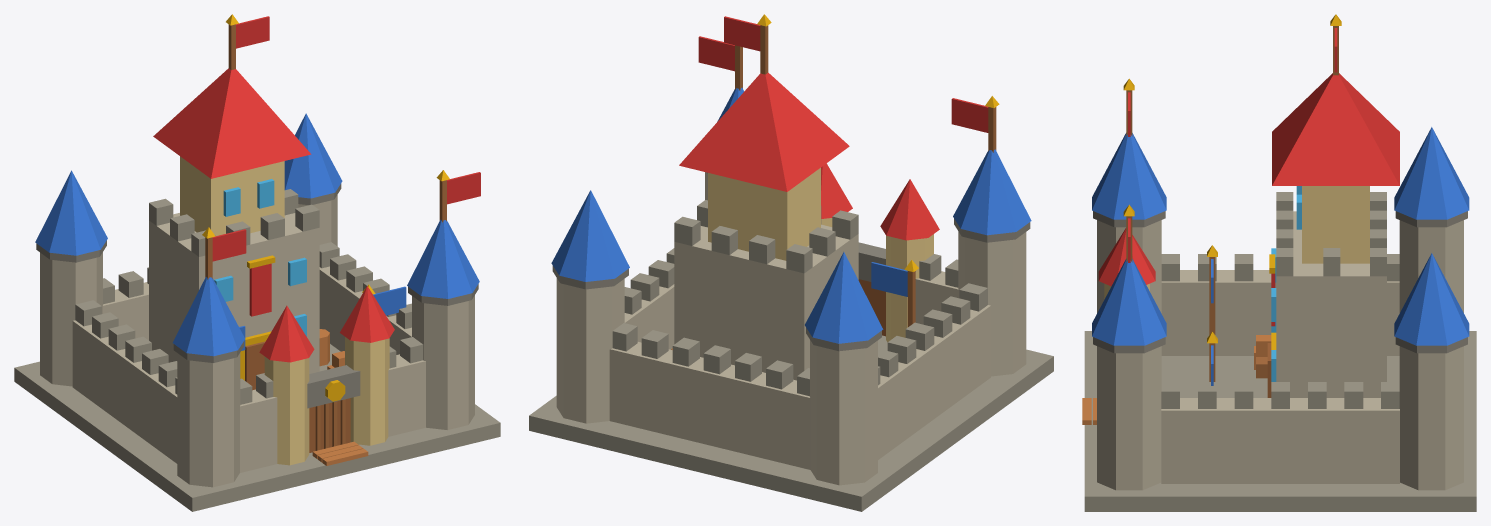
The model's file is castle_v1.glb.
3 renders of one model, left to right at view 1: azimuth 30°, elevation 25°; view 2: azimuth 150°, elevation 25°; view 3: azimuth 270°, elevation 25°, orthographic. The views are drawn at different scales.
Parts seen in each view (by area): view 1: castle_v1; view 2: castle_v1; view 3: castle_v1.
Part boxes in pixels (box(x1,y1,x2,y2)): castle_v1: box(14, 14, 500, 511); castle_v1: box(529, 14, 1053, 511); castle_v1: box(1082, 14, 1476, 511).
Bounding box in the file's own units: 0.92 × 1.08 × 0.925.
Materials: 1 (1 with a texture image).
